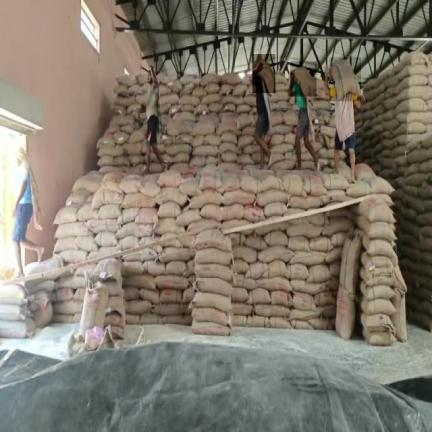Zone-Counting: (325, 60, 362, 181), (290, 67, 318, 168), (252, 55, 274, 167)
